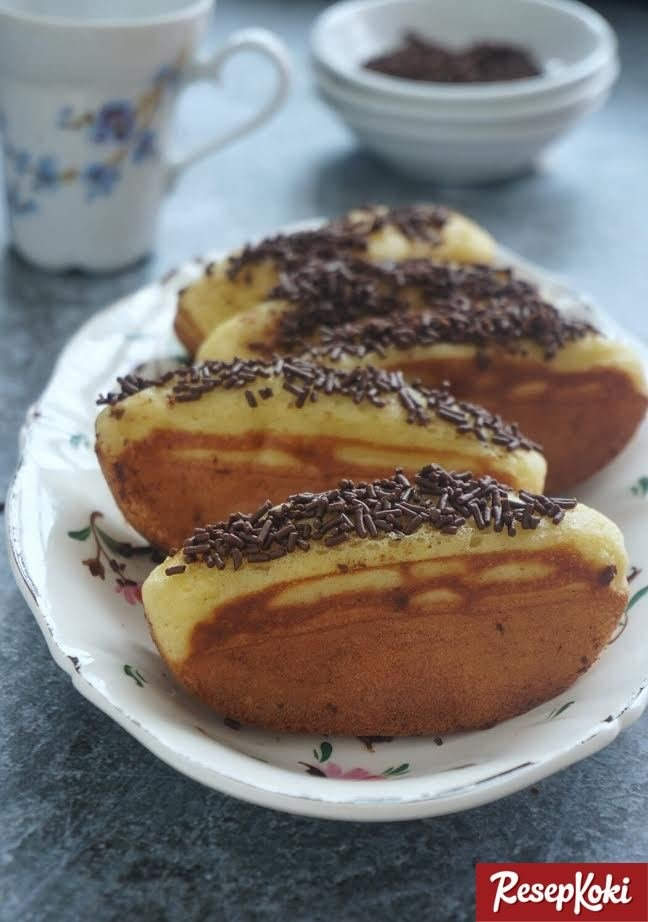pukis: (71, 458, 648, 744)
